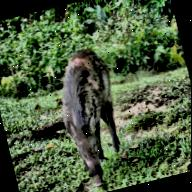boar: (31, 25, 149, 192)
